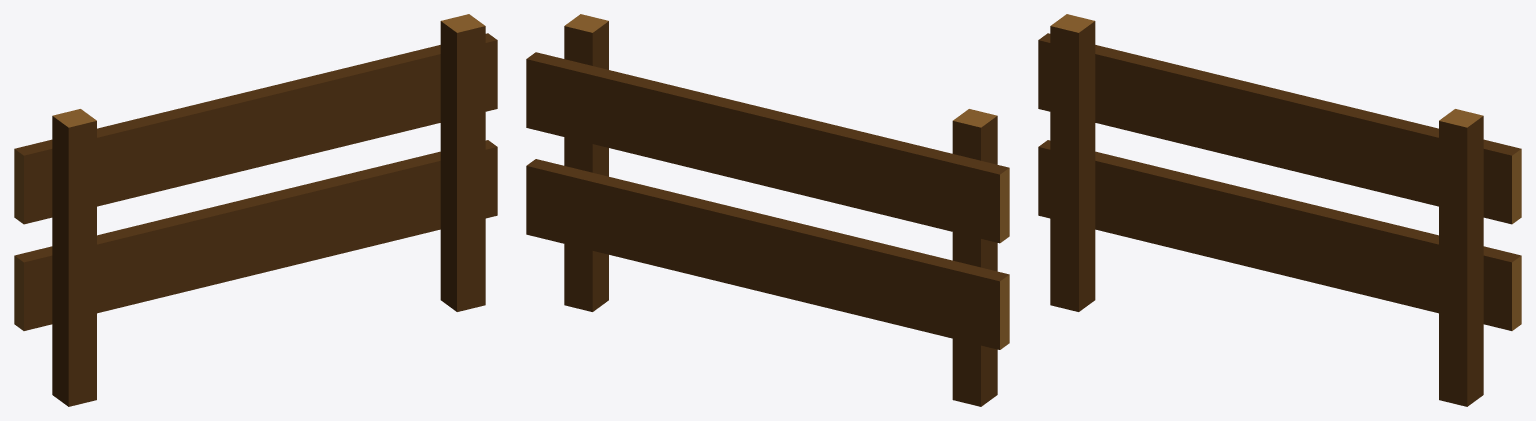
File: FarmFence_01.fbx
3 renders of one model, left to right at view 1: azimuth 30°, elevation 25°; view 2: azimuth 150°, elevation 25°; view 3: azimuth 330°, elevation 25°, orthographic.
Parts seen in each view (by area): view 1: FarmFence_01; view 2: FarmFence_01; view 3: FarmFence_01.
Boxes of the visible parts, bbox=[...] form: FarmFence_01: bbox=[14, 14, 497, 406]; FarmFence_01: bbox=[526, 14, 1009, 406]; FarmFence_01: bbox=[1038, 14, 1521, 406].
Bounding box in the file's own units: 0.3333 × 0.1878 × 0.0315.
